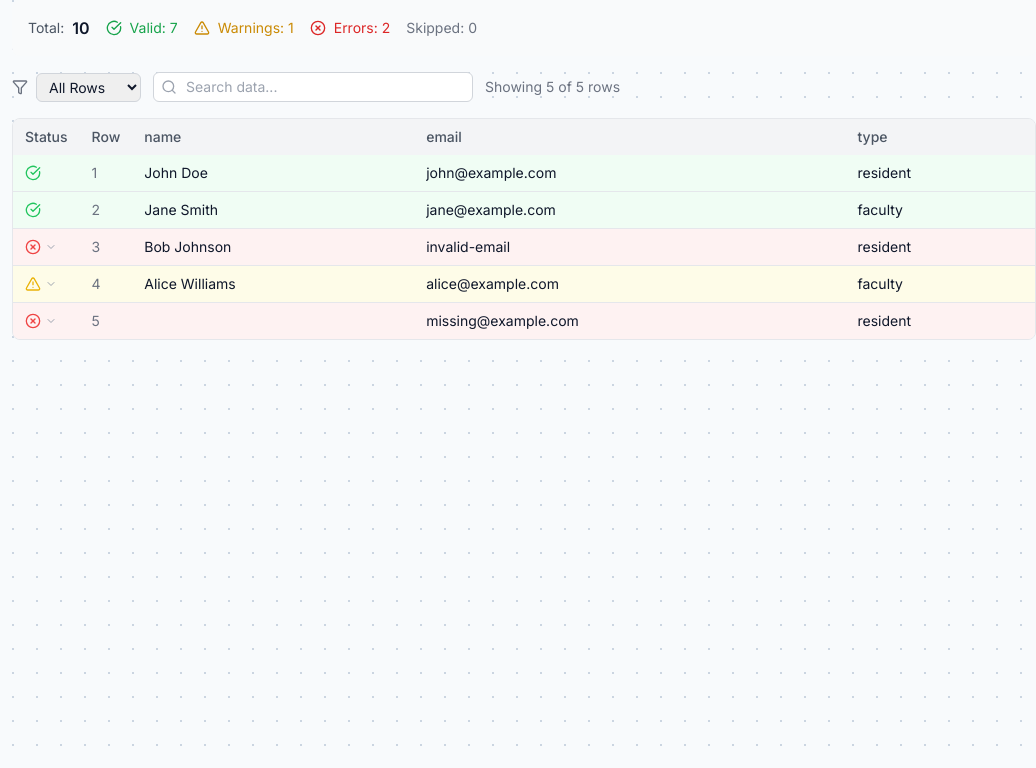
ImportPreview › Row Expansion › should expand row to show warnings when clicked
Click the text "Alice Williams".
click(524, 284)  # box [13, 266, 1035, 302]
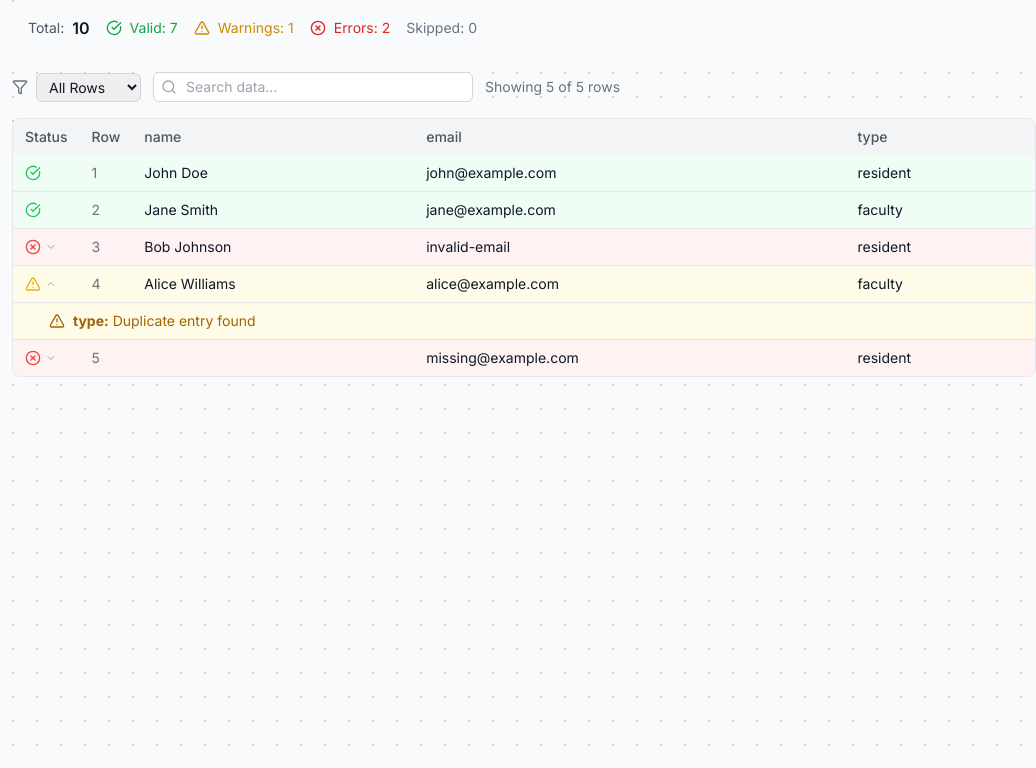
Now the text "type: Duplicate entry found" is shown, box [73, 311, 256, 331]
